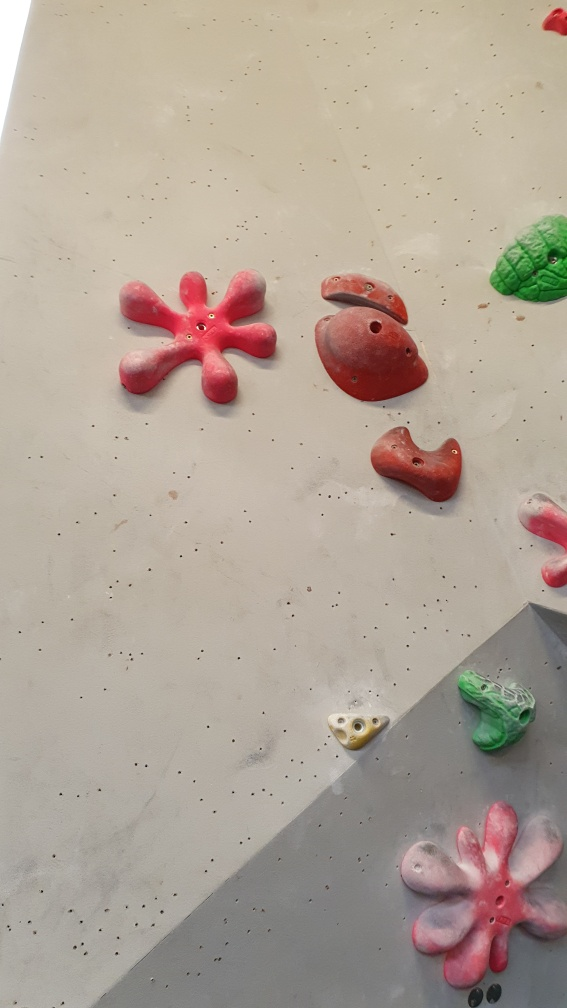Octopus Pinch: (399, 793, 567, 992), (115, 265, 282, 410)
